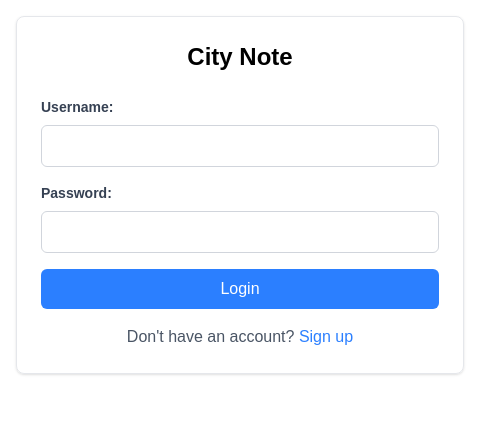
Test: Login Component › displays error message on login failure
Type "wronguser" into the field at (240,146), box [41,125,439,167]
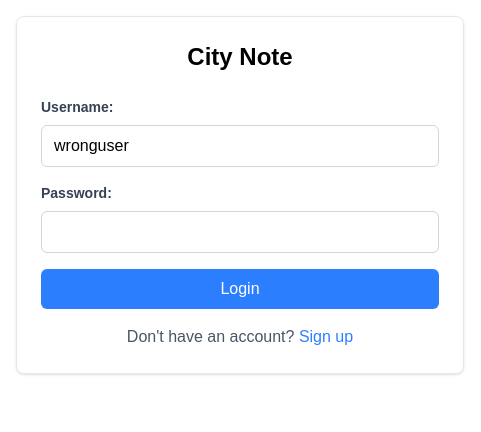
Type "wrongpass" into the password field at (240,232), box [41,211,439,253]
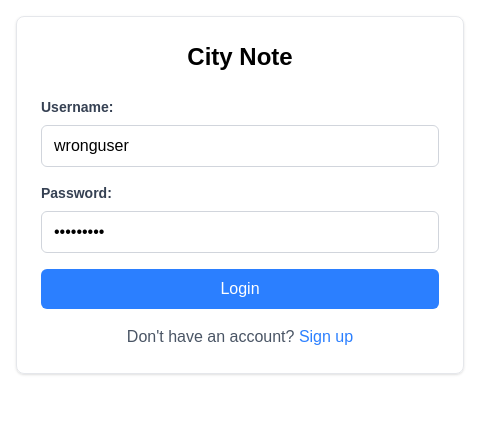
Click the button "Login" at (240,289), box [41,269,439,309]
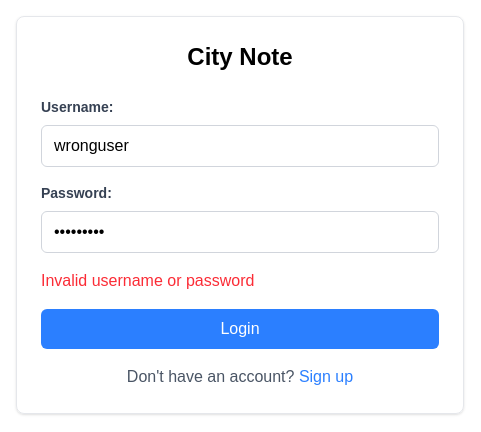
Result: the text "Invalid username or password" is shown at [41,272,254,289]
